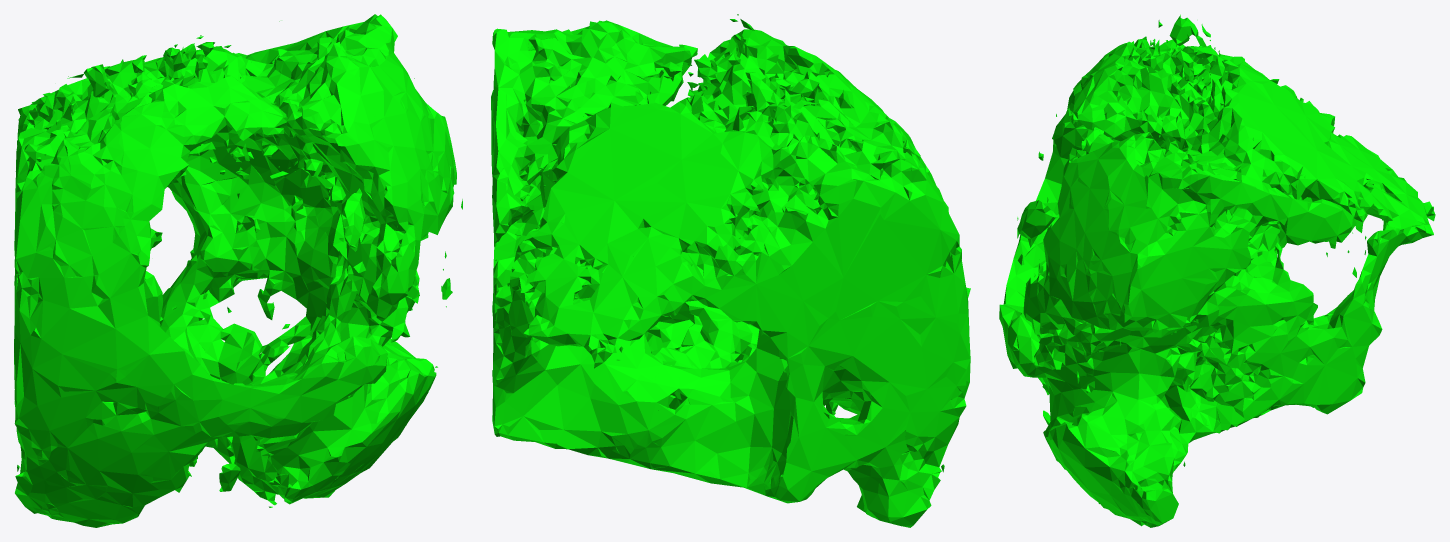
Rendered from B939XXXX-1_base_22.obj.
The picture shows the model from 3 angles, left to right: view 1: azimuth 30°, elevation 25°; view 2: azimuth 150°, elevation 25°; view 3: azimuth 270°, elevation 25°; orthographic projection. The views are drawn at different scales.
Visible parts, largest first — view 1: 22_base; view 2: 22_base; view 3: 22_base.
Boxes of the visible parts, left/top/right/bottom form: 22_base: left=14, top=14, right=462, bottom=527; 22_base: left=491, top=14, right=970, bottom=527; 22_base: left=999, top=14, right=1435, bottom=527.
Bounding box in the file's own units: 219 × 218 × 203.
